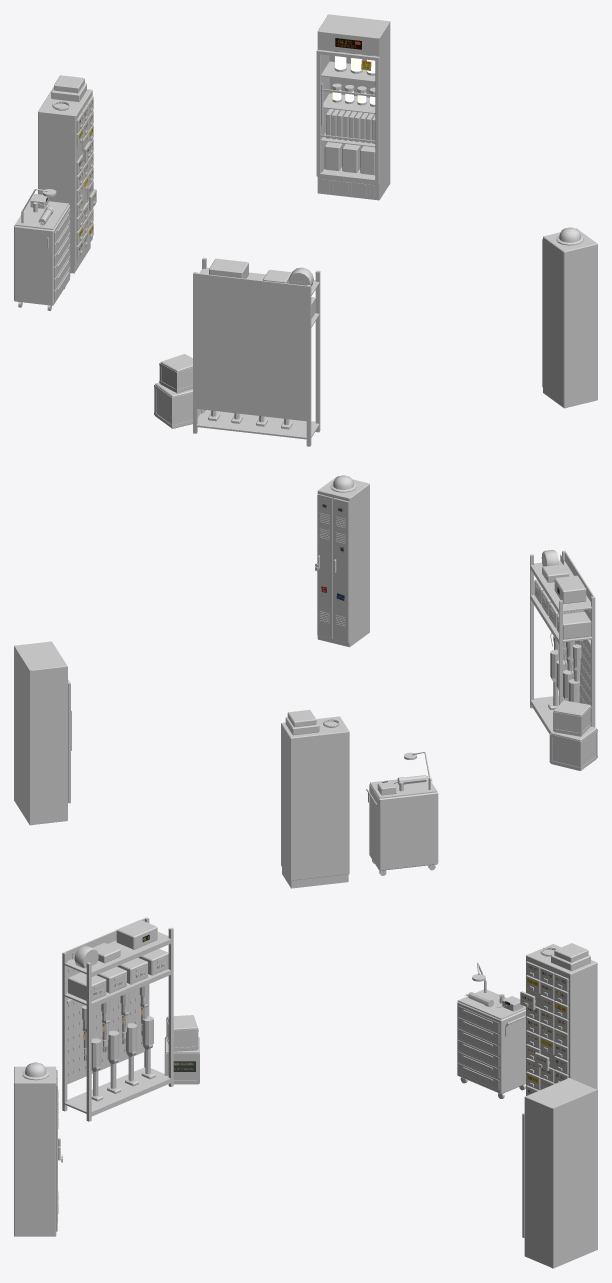
Rendered from ClinicStorageV2.fbx.
The picture shows the model from 3 angles, top to bottom: view 1: azimuth 30°, elevation 25°; view 2: azimuth 150°, elevation 25°; view 3: azimuth 270°, elevation 25°; orthographic projection. The views are drawn at different scales.
Parts seen in each view (by area): view 1: ST_SW_LimbRack, ST_NE_ColdCabinet, ST_S_Lockers, ST_NW_Drawers, ST_NW_ToolChest, ST_W_Crates, ST_Prints; view 2: ST_NW_Drawers, ST_NE_ColdCabinet, ST_S_Lockers, ST_SW_LimbRack, ST_NW_ToolChest, ST_W_Crates; view 3: ST_SW_LimbRack, ST_NE_ColdCabinet, ST_NW_Drawers, ST_S_Lockers, ST_NW_ToolChest, ST_Prints, ST_W_Crates.
Part boxes in pixels (left/top/right/bottom): ST_SW_LimbRack: left=193, top=257, right=320, bottom=446; ST_NE_ColdCabinet: left=316, top=14, right=390, bottom=200; ST_S_Lockers: left=542, top=227, right=597, bottom=408; ST_NW_Drawers: left=38, top=75, right=96, bottom=273; ST_NW_ToolChest: left=14, top=189, right=70, bottom=310; ST_W_Crates: left=154, top=354, right=204, bottom=428; ST_Prints: left=46, top=38, right=371, bottom=251; ST_NW_Drawers: left=281, top=710, right=349, bottom=888; ST_NE_ColdCabinet: left=14, top=641, right=71, bottom=825; ST_S_Lockers: left=315, top=475, right=369, bottom=647; ST_SW_LimbRack: left=530, top=550, right=595, bottom=733; ST_NW_ToolChest: left=366, top=752, right=438, bottom=875; ST_W_Crates: left=549, top=700, right=597, bottom=770; ST_SW_LimbRack: left=62, top=917, right=173, bottom=1121; ST_NE_ColdCabinet: left=522, top=1078, right=597, bottom=1268; ST_NW_Drawers: left=520, top=943, right=597, bottom=1095; ST_S_Lockers: left=14, top=1062, right=62, bottom=1236; ST_NW_ToolChest: left=457, top=962, right=525, bottom=1098; ST_Prints: left=83, top=934, right=566, bottom=1093; ST_W_Crates: left=164, top=1015, right=199, bottom=1084.
Bounding box in the file's own units: 5.22 × 2.06 × 6.45.
